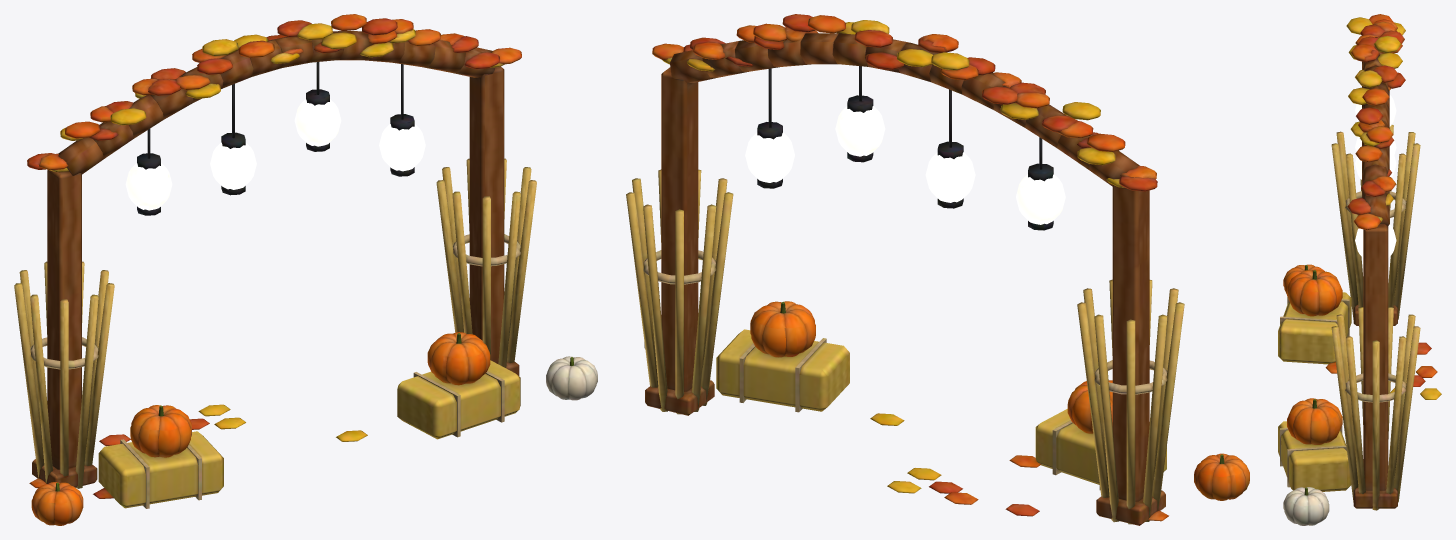
Rendered from lantern_arch.glb.
3 renders of one model, left to right at view 1: azimuth 30°, elevation 25°; view 2: azimuth 150°, elevation 25°; view 3: azimuth 270°, elevation 25°, orthographic. The views are drawn at different scales.
Visible parts, largest first — view 1: lantern_arch; view 2: lantern_arch; view 3: lantern_arch.
Boxes of the visible parts, <box> form: lantern_arch: <box>14,14,597,525</box>; lantern_arch: <box>626,14,1249,525</box>; lantern_arch: <box>1278,14,1441,525</box>.
Bounding box in the file's own units: 2.06 × 1.4 × 0.5916.
1 material, 1 textured.
